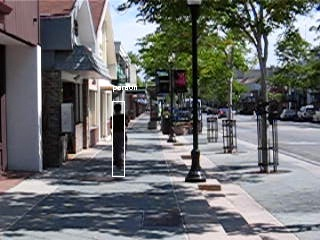person: (110, 103, 131, 169), (109, 103, 130, 169), (111, 103, 132, 169), (110, 102, 131, 168), (110, 104, 131, 170)
target_negative: (92, 79, 278, 122), (282, 3, 306, 233), (27, 60, 98, 122), (94, 94, 268, 111), (240, 67, 296, 113), (128, 80, 233, 85)
